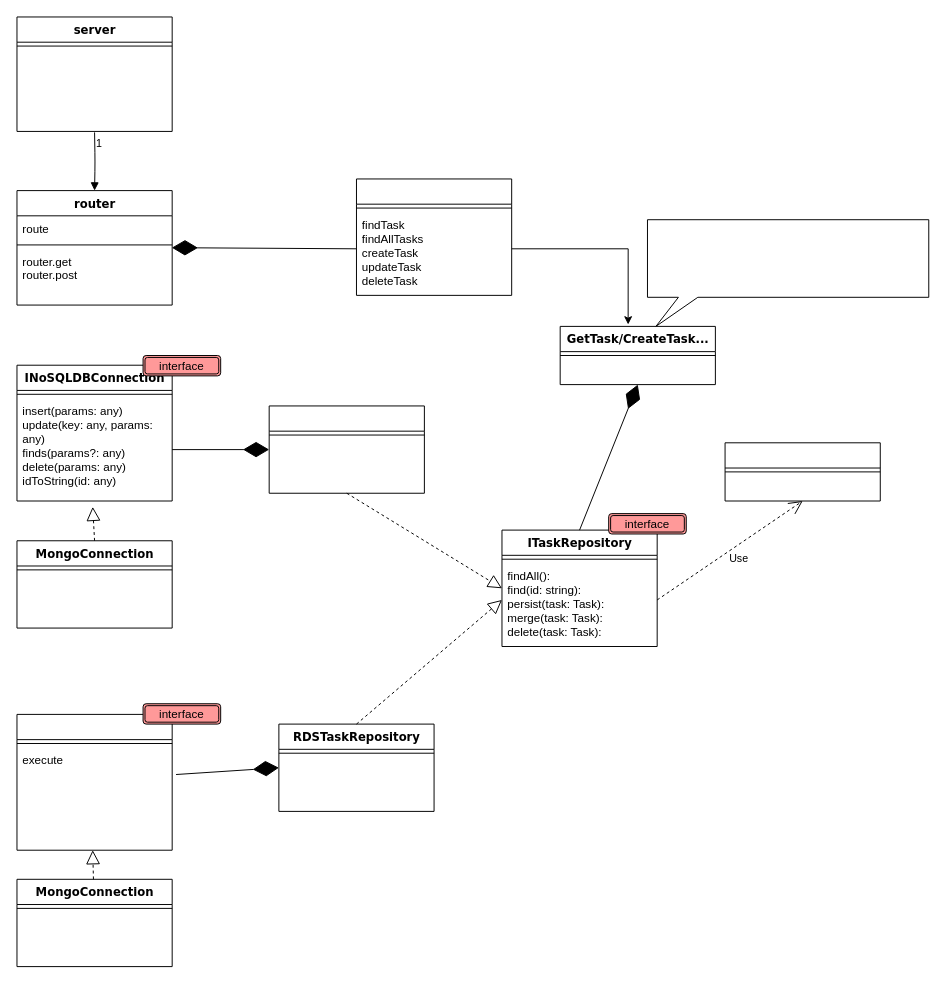
Image size: 946x984. Some labels were removed from this diagram. Here are the shapes that lost their labels. From the top down, the box of each, then its label:
(356, 178, 512, 295): TaskController
(647, 219, 929, 326): Task(TaskRepositoryに対するModelのCRUD処理) ごとにクラスあり ITaskRepositoryを注入
(268, 405, 424, 493): NoSQLTaskRepository
(724, 442, 880, 501): Task
(16, 713, 172, 850): IRDBConnection
